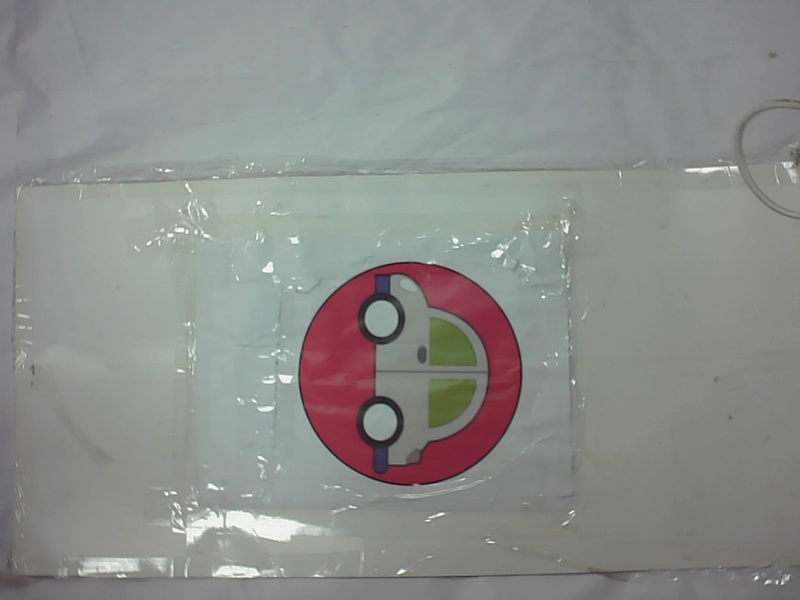areaC: (283, 261, 532, 492)
